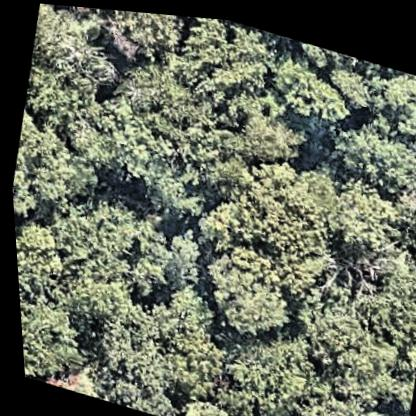tree-top: (186, 182, 341, 302), (88, 290, 227, 401), (16, 1, 127, 139), (41, 191, 173, 297), (82, 100, 202, 211), (6, 119, 109, 235), (290, 286, 399, 389), (187, 249, 300, 344), (211, 321, 317, 416), (171, 12, 280, 98), (46, 3, 194, 66), (240, 142, 342, 233), (112, 57, 216, 143), (322, 109, 416, 190), (349, 234, 416, 346), (15, 289, 89, 390), (261, 49, 357, 126), (321, 168, 400, 252), (45, 257, 135, 326), (145, 219, 216, 303), (232, 100, 313, 167), (78, 358, 167, 416), (284, 377, 406, 416), (163, 380, 276, 416), (369, 59, 416, 133), (12, 220, 69, 281)
